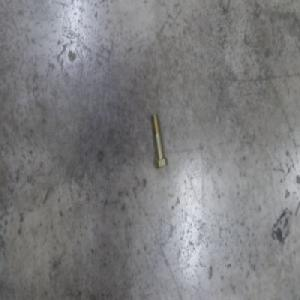Bolt: (150, 114, 167, 171)
